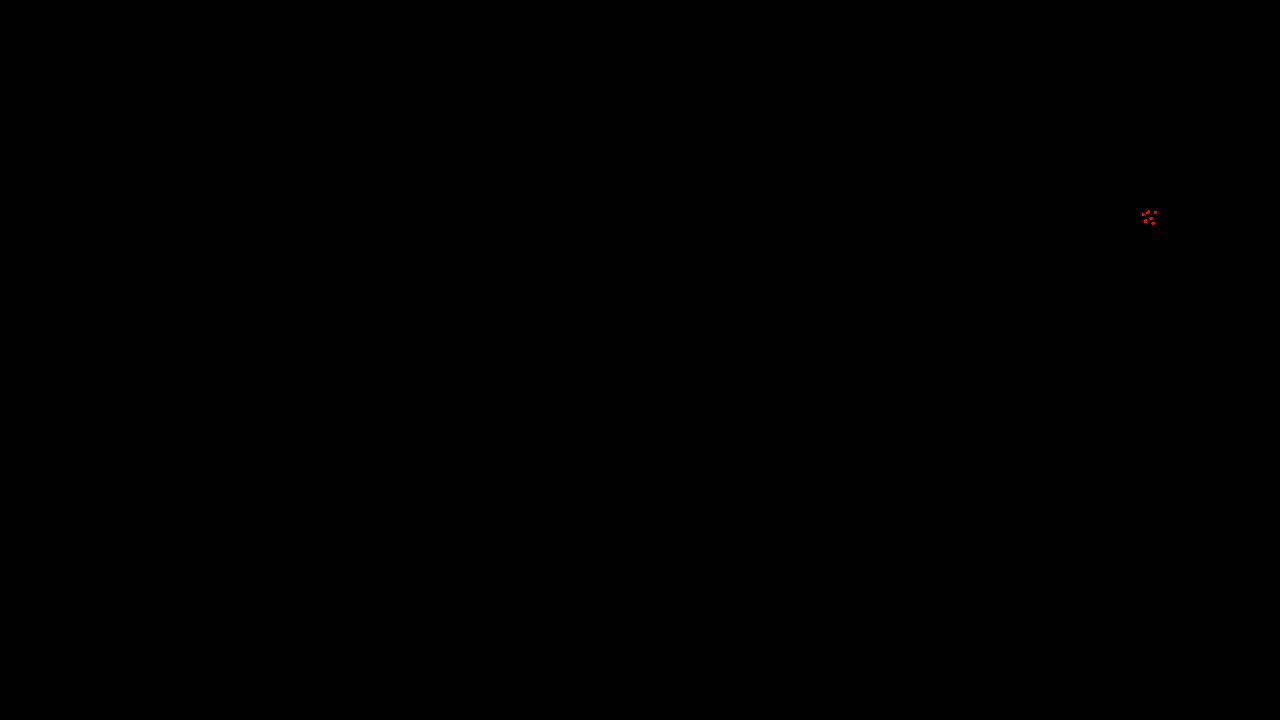Target: (1146, 210, 1150, 214), (1149, 217, 1153, 220), (1144, 219, 1147, 223), (1151, 222, 1155, 225), (1154, 211, 1157, 214), (1142, 213, 1145, 216)
